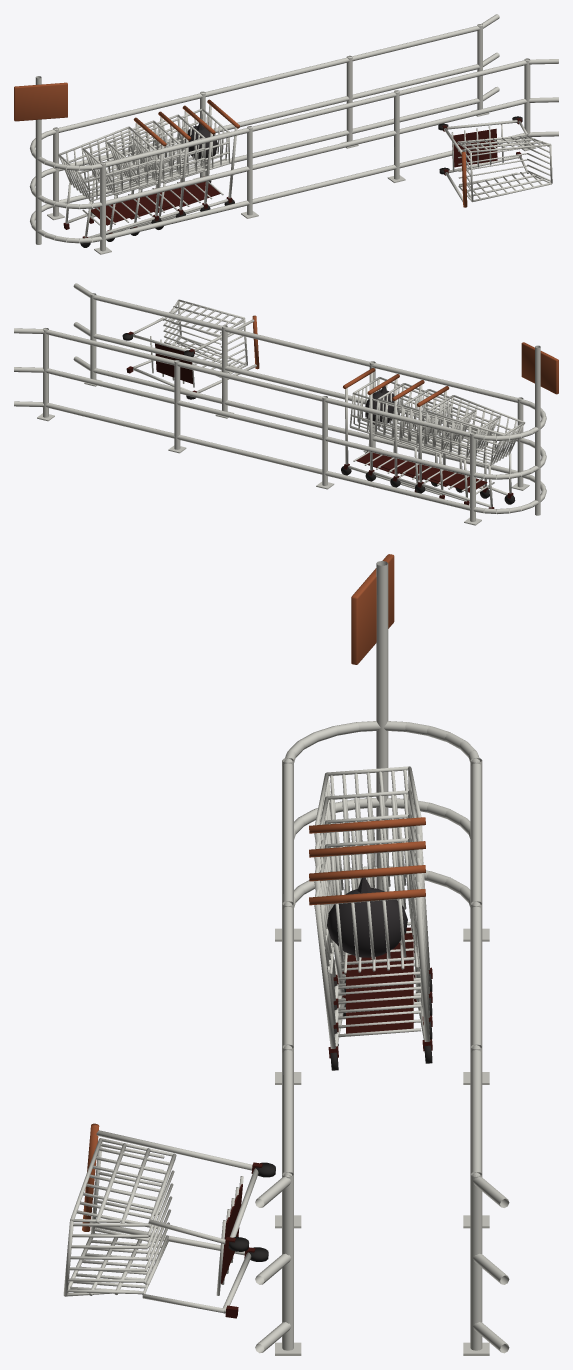
Rendered from corral.glb.
3 renders of one model, top to bottom at view 1: azimuth 30°, elevation 25°; view 2: azimuth 150°, elevation 25°; view 3: azimuth 270°, elevation 25°, orthographic. The views are drawn at different scales.
Parts seen in each view (by area): view 1: rails, posts, sign, tray_rust.004, tray_rust, bag, tray_rust.003, tray_rust.002, tray_rust.001; view 2: rails, posts, sign, tray_rust.004, tray_rust, bag, tray_rust.003, tray_rust.002; view 3: rails, posts, bag, sign, tray_rust.002, tray_rust.003, tray_rust.001, leg_1.004, handle, handle.001, handle.002, handle.003.
Part boxes in pixels (box(x1,y1,x2,y2)): rails: box(29, 14, 558, 243); posts: box(35, 24, 530, 251); sign: box(14, 82, 67, 121); tray_rust.004: box(453, 128, 497, 167); tray_rust: box(91, 199, 146, 225); bag: box(185, 126, 217, 160); tray_rust.003: box(179, 181, 220, 206); tray_rust.002: box(154, 187, 195, 212); tray_rust.001: box(130, 193, 171, 219); rails: box(14, 283, 546, 514); posts: box(43, 293, 540, 521); sign: box(521, 342, 558, 394); tray_rust.004: box(155, 343, 192, 383); tray_rust: box(430, 470, 487, 492); bag: box(365, 390, 397, 425); tray_rust.003: box(356, 452, 398, 473); tray_rust.002: box(381, 458, 423, 480); rails: box(255, 721, 509, 1353); posts: box(282, 561, 482, 1350); bag: box(327, 888, 407, 957); sign: box(351, 554, 394, 664); tray_rust.002: box(346, 984, 413, 1012); tray_rust.003: box(346, 1008, 413, 1036); tray_rust.001: box(346, 960, 413, 987); leg_1.004: box(96, 1130, 252, 1170); handle: box(309, 817, 425, 833); handle.001: box(309, 841, 425, 857); handle.002: box(309, 865, 425, 881); handle.003: box(309, 889, 425, 905).
Bounding box in the file's own units: 6.29 × 2.02 × 2.37.
